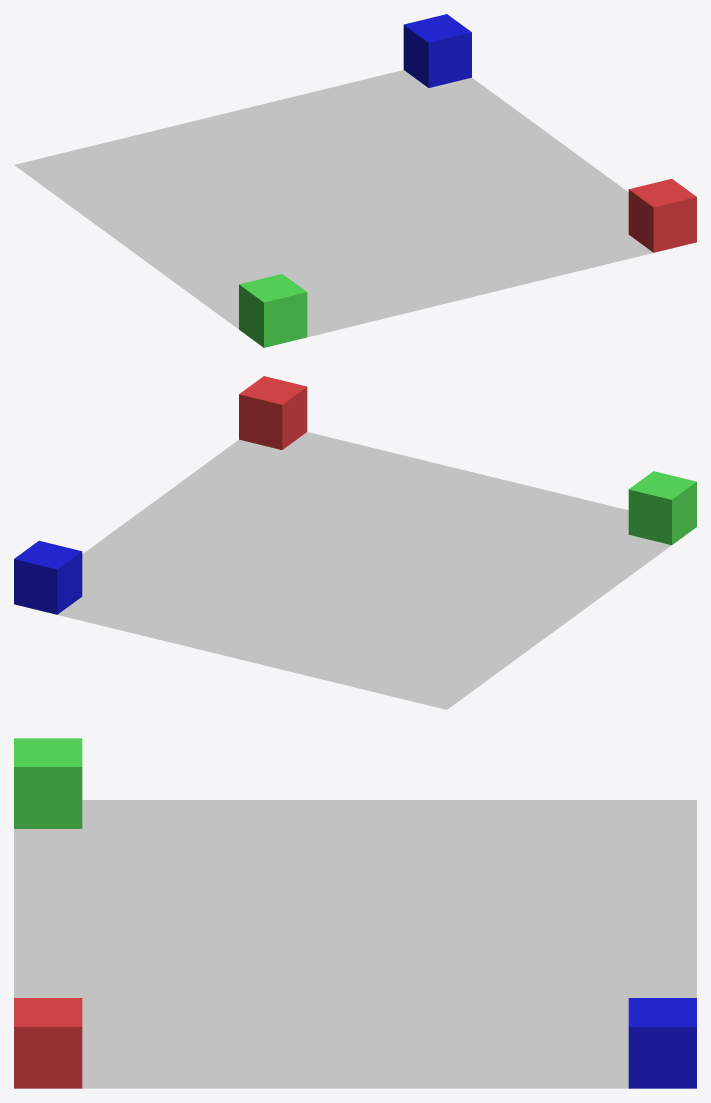
3 views of the same model, one above another, from view 1: azimuth 30°, elevation 25°; view 2: azimuth 150°, elevation 25°; view 3: azimuth 270°, elevation 25° (orthographic). The views are drawn at different scales.
Parts seen in each view (by area): view 1: Plane, Cube, Cube.001, Cube.002; view 2: Plane, Cube, Cube.001, Cube.002; view 3: Plane, Cube, Cube.001, Cube.002.
Part boxes in pixels (left/top/right/bottom): Plane: left=14, top=70, right=653, bottom=337; Cube: left=403, top=14, right=471, bottom=87; Cube.001: left=239, top=274, right=307, bottom=347; Cube.002: left=628, top=179, right=696, bottom=252; Plane: left=57, top=432, right=671, bottom=709; Cube: left=14, top=541, right=82, bottom=614; Cube.001: left=628, top=471, right=696, bottom=544; Cube.002: left=239, top=376, right=307, bottom=449; Plane: left=14, top=800, right=696, bottom=1088; Cube: left=628, top=998, right=696, bottom=1088; Cube.001: left=14, top=738, right=82, bottom=828; Cube.002: left=14, top=998, right=82, bottom=1088.
Bounding box in the file's own units: 1000 × 100 × 1000.
